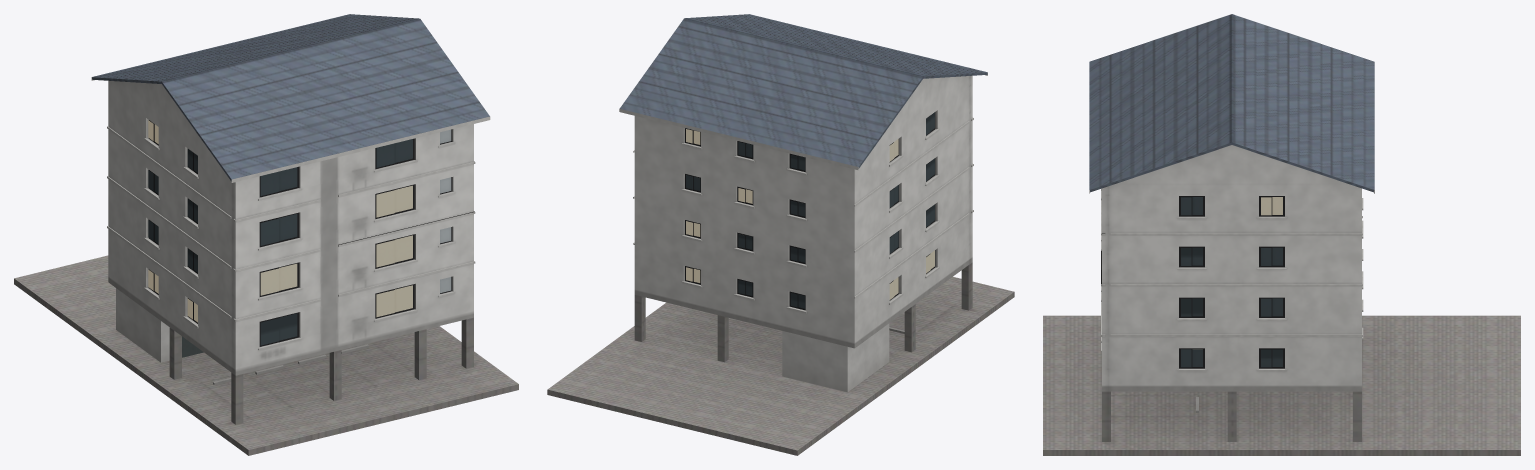
Rendered from IlsanVilla01_LOD2.fbx.
3 views of the same model, side by side, from view 1: azimuth 30°, elevation 25°; view 2: azimuth 150°, elevation 25°; view 3: azimuth 270°, elevation 25° (orthographic). The views are drawn at different scales.
Parts seen in each view (by area): view 1: IlsanVilla01_LOD2; view 2: IlsanVilla01_LOD2; view 3: IlsanVilla01_LOD2.
Boxes of the visible parts, <box> form: IlsanVilla01_LOD2: <box>14,14,518,455</box>; IlsanVilla01_LOD2: <box>547,14,1014,455</box>; IlsanVilla01_LOD2: <box>1043,14,1520,455</box>.
Size of the model in its own units: 15.9 by 17.14 by 23.9.
1 material, 1 textured.
